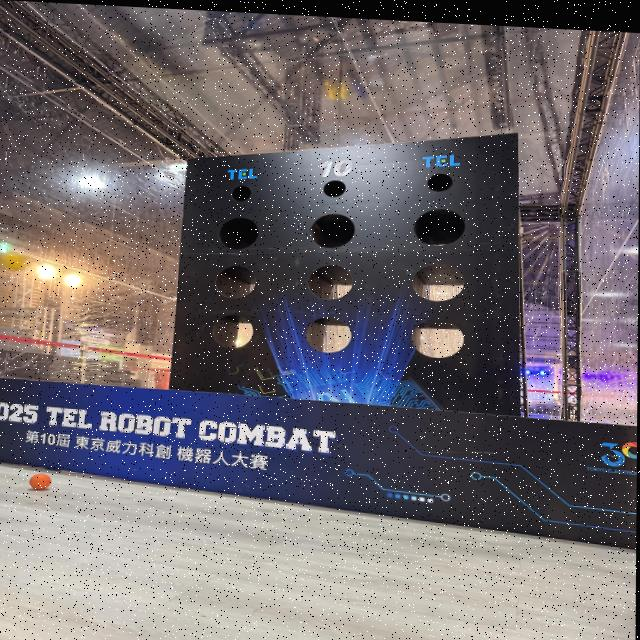hole: (412, 319, 464, 359), (413, 263, 464, 303), (414, 208, 465, 247), (306, 316, 352, 354), (308, 264, 352, 301), (311, 212, 354, 249), (212, 313, 253, 349), (218, 216, 258, 251), (216, 264, 255, 299), (427, 173, 453, 193), (323, 180, 345, 198), (232, 185, 251, 202)
